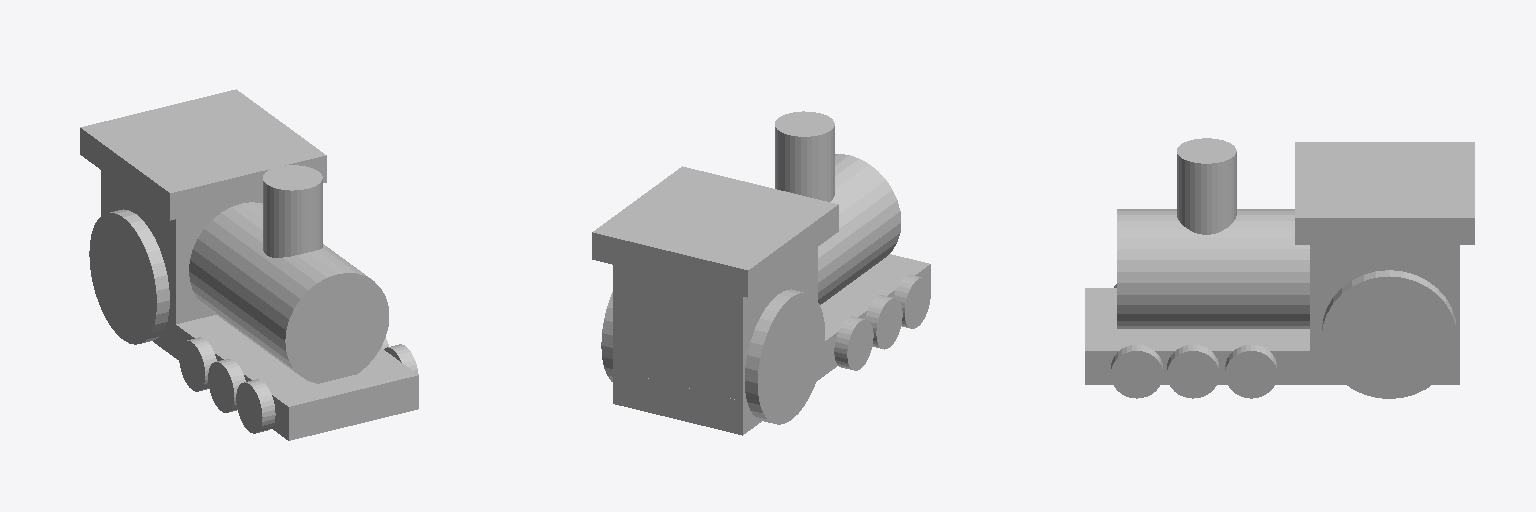
File: tren.obj
3 renders of one model, left to right at view 1: azimuth 30°, elevation 25°; view 2: azimuth 150°, elevation 25°; view 3: azimuth 270°, elevation 25°, orthographic.
Parts seen in each view (by area): view 1: Cilindro, Cube.002, Cube.001, Cilindro.009, Cube, Cilindro.001, Cilindro.005, Cilindro.007, Cilindro.006; view 2: Cube.002, Cube, Cube.001, Cilindro.009, Cilindro, Cilindro.001, Cilindro.007, Cilindro.006, Cilindro.005, Cilindro.008; view 3: Cilindro, Cube.002, Cilindro.008, Cube.001, Cube, Cilindro.001, Cilindro.004, Cilindro.002, Cilindro.003.
Boxes of the visible parts, x1,y1,x2,y2 form: Cilindro: [189, 202, 388, 383]; Cube.002: [80, 89, 326, 220]; Cube.001: [153, 315, 418, 440]; Cilindro.009: [89, 209, 169, 344]; Cube: [101, 170, 262, 326]; Cilindro.001: [263, 165, 322, 257]; Cilindro.005: [236, 379, 275, 433]; Cilindro.007: [179, 337, 216, 391]; Cilindro.006: [208, 359, 245, 412]; Cube.002: [592, 166, 838, 297]; Cube: [613, 247, 817, 400]; Cube.001: [613, 254, 930, 435]; Cilindro.009: [745, 289, 824, 424]; Cilindro: [818, 154, 900, 304]; Cilindro.001: [775, 111, 834, 201]; Cilindro.007: [834, 316, 873, 370]; Cilindro.006: [865, 295, 902, 349]; Cilindro.005: [893, 274, 930, 328]; Cilindro.008: [601, 292, 612, 381]; Cilindro: [1117, 209, 1309, 328]; Cube.002: [1295, 142, 1474, 244]; Cilindro.008: [1322, 270, 1456, 398]; Cube.001: [1085, 288, 1459, 384]; Cube: [1310, 245, 1459, 353]; Cilindro.001: [1177, 138, 1236, 234]; Cilindro.004: [1167, 345, 1219, 398]; Cilindro.002: [1225, 345, 1277, 398]; Cilindro.003: [1111, 345, 1162, 398].
Size of the model in its own units: 2.4 by 3.08 by 5.2.